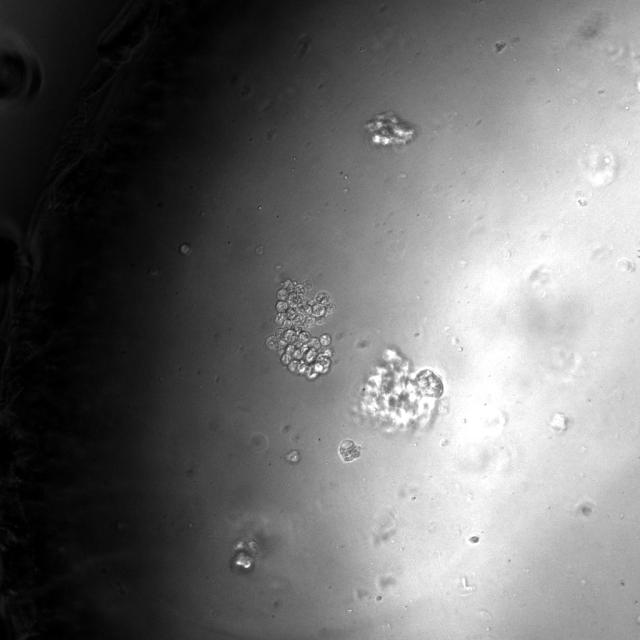organoid: (266, 277, 336, 381), (359, 348, 444, 433), (366, 111, 414, 145), (229, 538, 259, 573), (338, 440, 361, 463), (285, 450, 300, 463)
